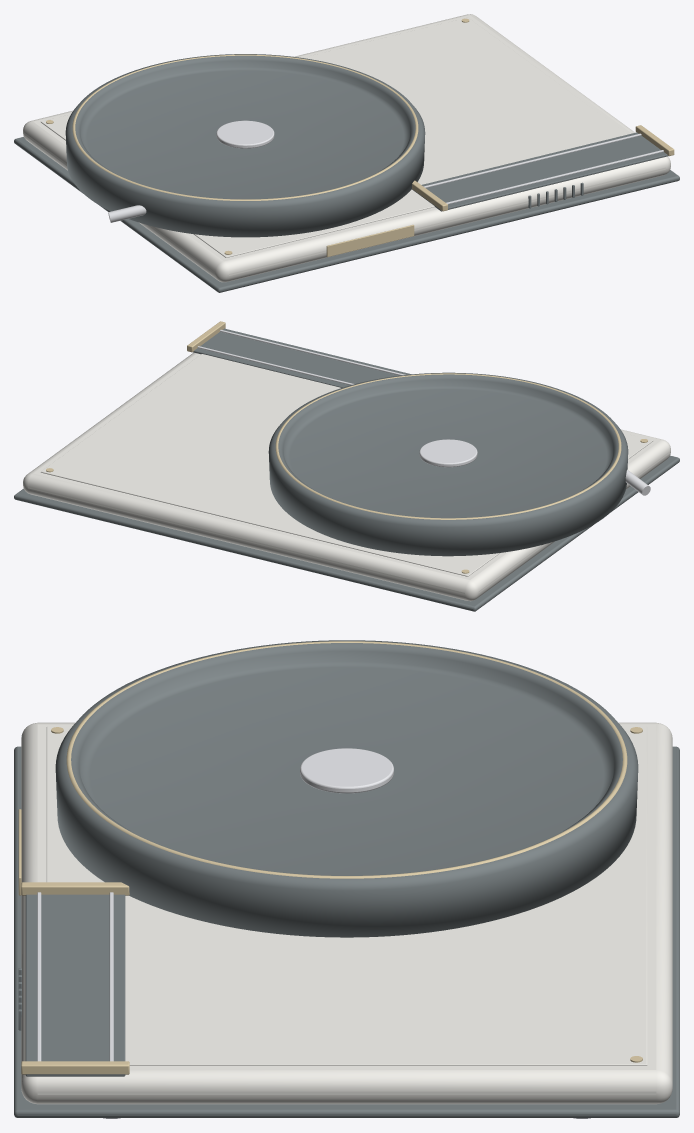
Rendered from machine-base.glb.
3 views of the same model, one above another, from view 1: azimuth 30°, elevation 25°; view 2: azimuth 150°, elevation 25°; view 3: azimuth 270°, elevation 25° (orthographic). The views are drawn at different scales.
Visible parts, largest first — view 1: lathe, Cube.002, Cube.001, Cube, Cube.011, Torus, Cylinder.012, Cube.010, Cube.012, Cube.013, Cylinder.013; view 2: lathe, Cube.002, Cube.001, Cube, Cube.011, Torus, Cylinder.012, Cube.013, Cube.012; view 3: lathe, Cube.002, Cube.001, Cube.011, Cube, Torus, Cylinder.012, Cube.015, Cube.014, Cube.012, Cube.013.
Part boxes in pixels (<box>): lathe: <box>65,54,425,237</box>; Cube.002: <box>41,17,627,257</box>; Cube.001: <box>23,14,670,282</box>; Cube: <box>14,137,679,292</box>; Cube.011: <box>412,132,668,211</box>; Torus: <box>72,54,418,200</box>; Cylinder.012: <box>216,120,274,148</box>; Cube.010: <box>326,224,414,257</box>; Cube.012: <box>423,133,641,187</box>; Cube.013: <box>446,150,663,204</box>; Cylinder.013: <box>108,205,146,222</box>; lathe: <box>268,372,628,556</box>; Cube.002: <box>40,354,652,576</box>; Cube.001: <box>23,352,670,601</box>; Cube: <box>14,455,679,611</box>; Cube.011: <box>193,328,410,387</box>; Torus: <box>275,373,621,519</box>; Cylinder.012: <box>419,439,477,467</box>; Cube.013: <box>220,329,405,375</box>; Cube.012: <box>197,346,354,385</box>; lathe: <box>55,640,638,937</box>; Cube.002: <box>46,726,647,1065</box>; Cube.001: <box>21,722,672,1104</box>; Cube.011: <box>25,894,125,1076</box>; Cube: <box>14,746,679,1117</box>; Torus: <box>66,641,627,878</box>; Cylinder.012: <box>300,748,393,793</box>; Cube.015: <box>21,1061,129,1074</box>; Cube.014: <box>21,882,129,895</box>; Cube.012: <box>109,892,113,1061</box>; Cube.013: <box>37,892,41,1061</box>.
Size of the model in its own units: 5.18 by 0.793 by 3.68.
